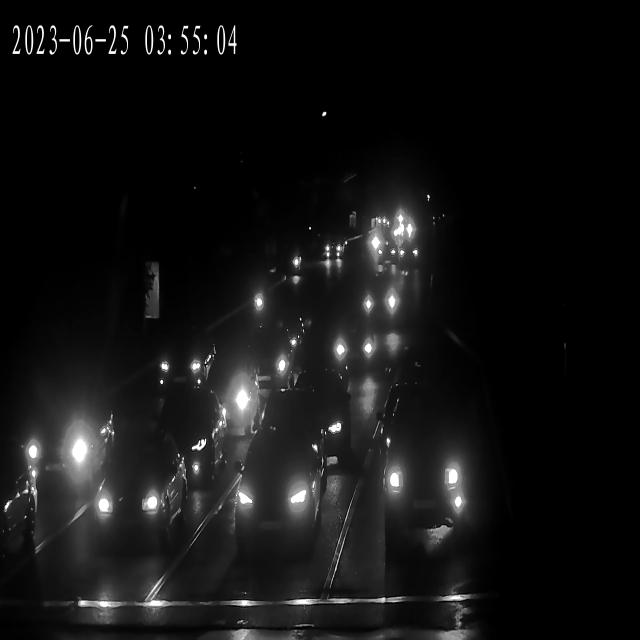Car: (370, 411, 474, 529), (88, 436, 187, 557), (226, 438, 322, 559), (13, 381, 114, 484), (258, 382, 351, 470), (153, 391, 228, 490), (198, 369, 260, 442), (153, 335, 212, 389), (241, 335, 296, 386), (249, 330, 301, 380), (328, 323, 383, 370), (358, 282, 400, 322), (367, 233, 402, 266), (365, 230, 400, 260), (369, 242, 400, 272), (391, 222, 419, 244), (388, 221, 416, 241), (323, 240, 346, 260), (320, 242, 342, 262), (370, 215, 389, 227), (367, 216, 385, 228)
